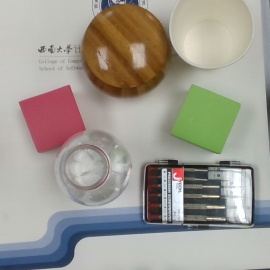bottle: (54, 127, 131, 207)
chess: (84, 4, 172, 99)
cup: (170, 1, 256, 70)
